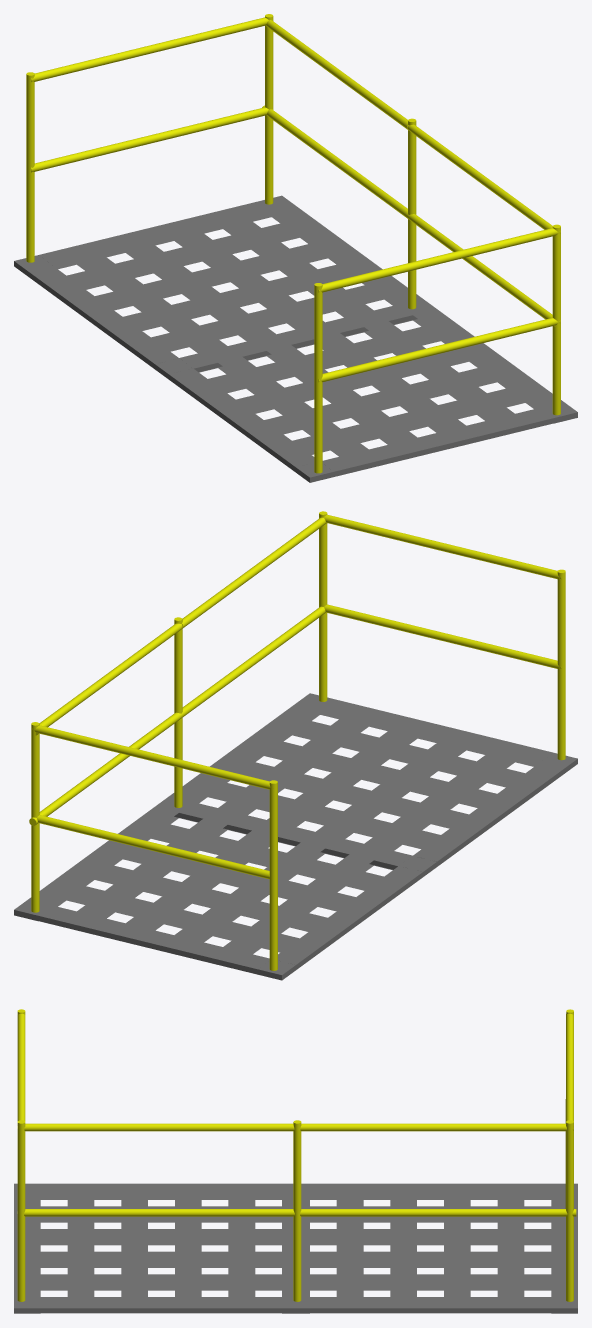
Rendered from balustrade.fbx.
3 views of the same model, one above another, from view 1: azimuth 30°, elevation 25°; view 2: azimuth 150°, elevation 25°; view 3: azimuth 270°, elevation 25° (orthographic). The views are drawn at different scales.
Parts seen in each view (by area): view 1: pCube12, pCube13, pCylinder17, pCylinder18, pCylinder30, pCylinder20, pCylinder29, pCylinder31, pCylinder34, pCylinder19, pCylinder26, pCylinder27 (+6 smaller); view 2: pCube12, pCube13, pCylinder18, pCylinder17, pCylinder20, pCylinder30, pCylinder34, pCylinder31, pCylinder19, pCylinder29, pCylinder36, pCylinder28 (+5 smaller); view 3: pCube12, pCube13, pCylinder28, pCylinder27, pCylinder26, pCylinder36, pCylinder29, pCylinder10, pCylinder19, pCylinder34, pCylinder18.
Boxes of the visible parts, x1,y1,x2,y2 form: pCube12: [14, 195, 436, 376]; pCube13: [155, 299, 577, 482]; pCylinder17: [31, 107, 272, 172]; pCylinder18: [31, 17, 272, 81]; pCylinder30: [314, 283, 322, 473]; pCylinder20: [26, 72, 34, 262]; pCylinder29: [552, 224, 560, 415]; pCylinder31: [318, 317, 560, 381]; pCylinder34: [318, 228, 560, 291]; pCylinder19: [265, 14, 273, 204]; pCylinder26: [262, 105, 409, 219]; pCylinder27: [266, 20, 408, 129]; pCube12: [14, 796, 436, 980]; pCube13: [155, 693, 577, 876]; pCylinder18: [32, 725, 270, 789]; pCylinder17: [36, 815, 269, 879]; pCylinder20: [269, 780, 277, 970]; pCylinder30: [557, 569, 565, 760]; pCylinder34: [319, 514, 561, 578]; pCylinder31: [324, 604, 561, 667]; pCylinder19: [31, 722, 39, 912]; pCylinder29: [319, 511, 327, 701]; pCylinder36: [180, 606, 325, 718]; pCylinder28: [182, 517, 326, 628]; pCube12: [283, 1183, 577, 1313]; pCube13: [14, 1183, 308, 1313]; pCylinder28: [24, 1123, 294, 1131]; pCylinder27: [300, 1123, 573, 1131]; pCylinder26: [300, 1209, 576, 1216]; pCylinder36: [24, 1209, 300, 1216]; pCylinder29: [17, 1120, 25, 1301]; pCylinder10: [293, 1120, 301, 1301]; pCylinder19: [566, 1120, 573, 1301]; pCylinder34: [17, 1013, 25, 1127]; pCylinder18: [566, 1013, 573, 1127].
Size of the model in its own units: 4.29 by 2.94 by 8.2.
